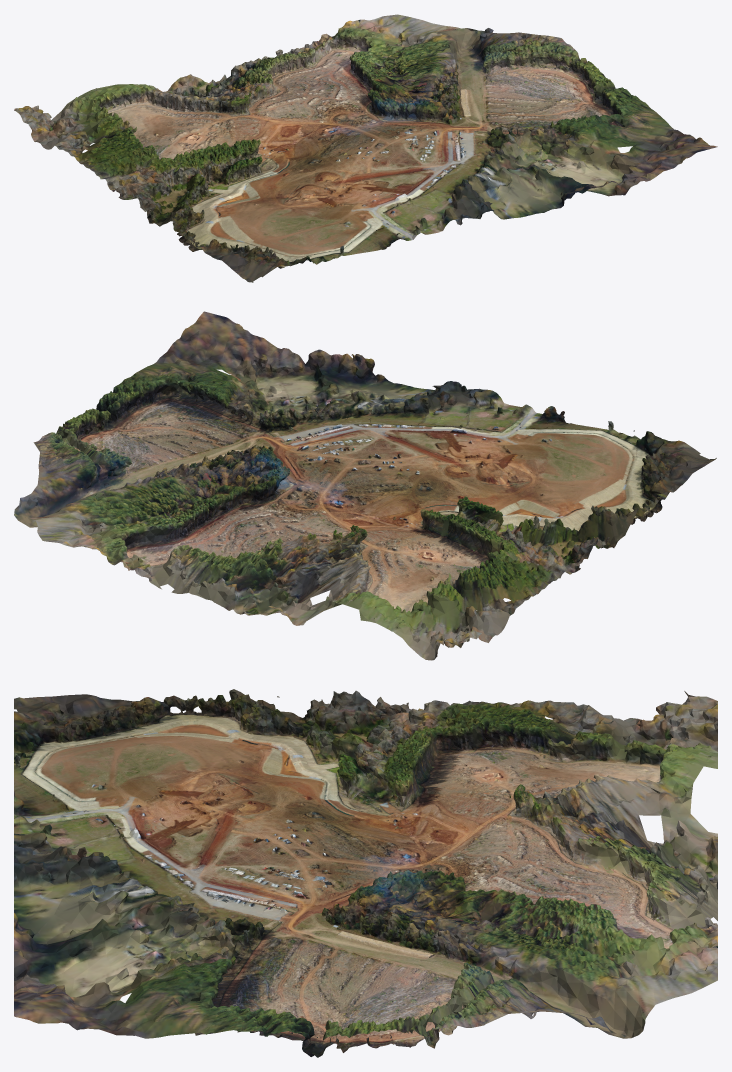
Rendered from midway.glb.
3 renders of one model, top to bottom at view 1: azimuth 30°, elevation 25°; view 2: azimuth 150°, elevation 25°; view 3: azimuth 270°, elevation 25°, orthographic. The views are drawn at different scales.
Bounding box in the file's own units: 5.38 × 0.4731 × 4.62.
1 material, 1 textured.
